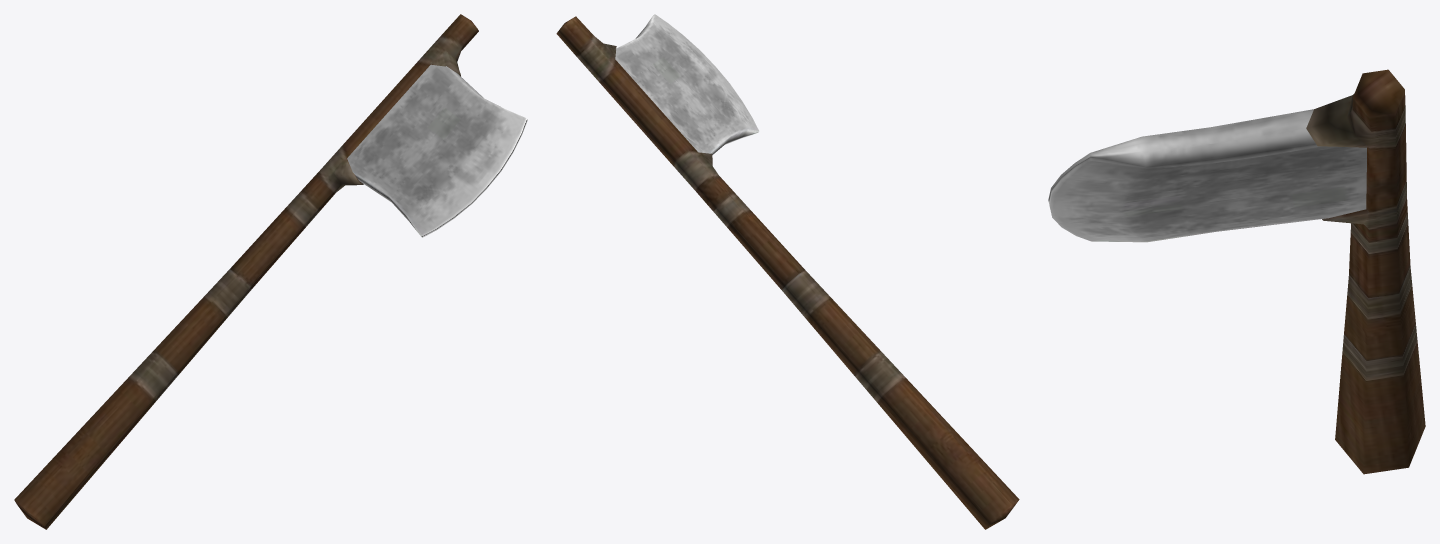
The model's file is weapon-base.glb.
The picture shows the model from 3 angles, left to right: view 1: azimuth 30°, elevation 25°; view 2: azimuth 150°, elevation 25°; view 3: azimuth 270°, elevation 25°; orthographic projection. The views are drawn at different scales.
Size of the model in its own units: 0.8391 by 0.7156 by 0.3011.
Materials: 1 (1 with a texture image).
